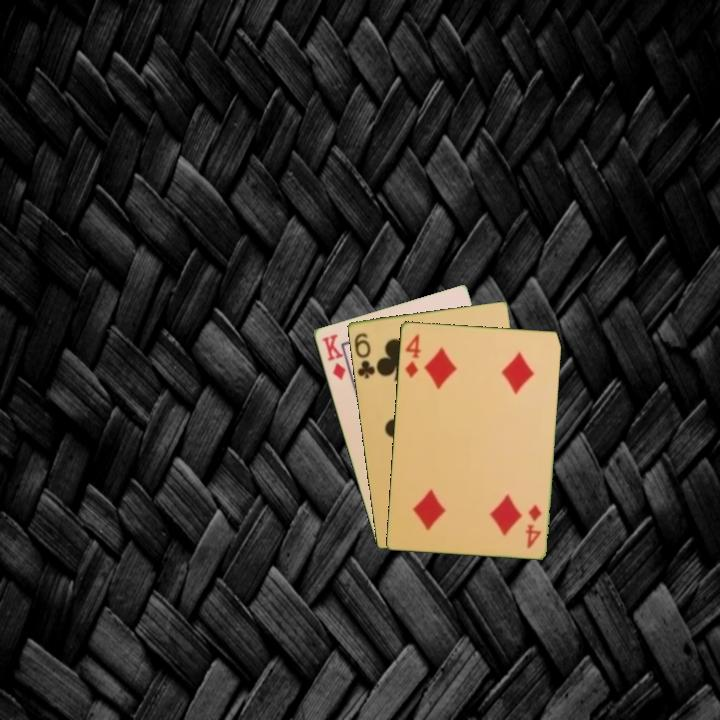4d: (522, 501, 544, 551), (401, 331, 423, 380)
6c: (350, 329, 378, 381)
Kd: (318, 330, 348, 383)
